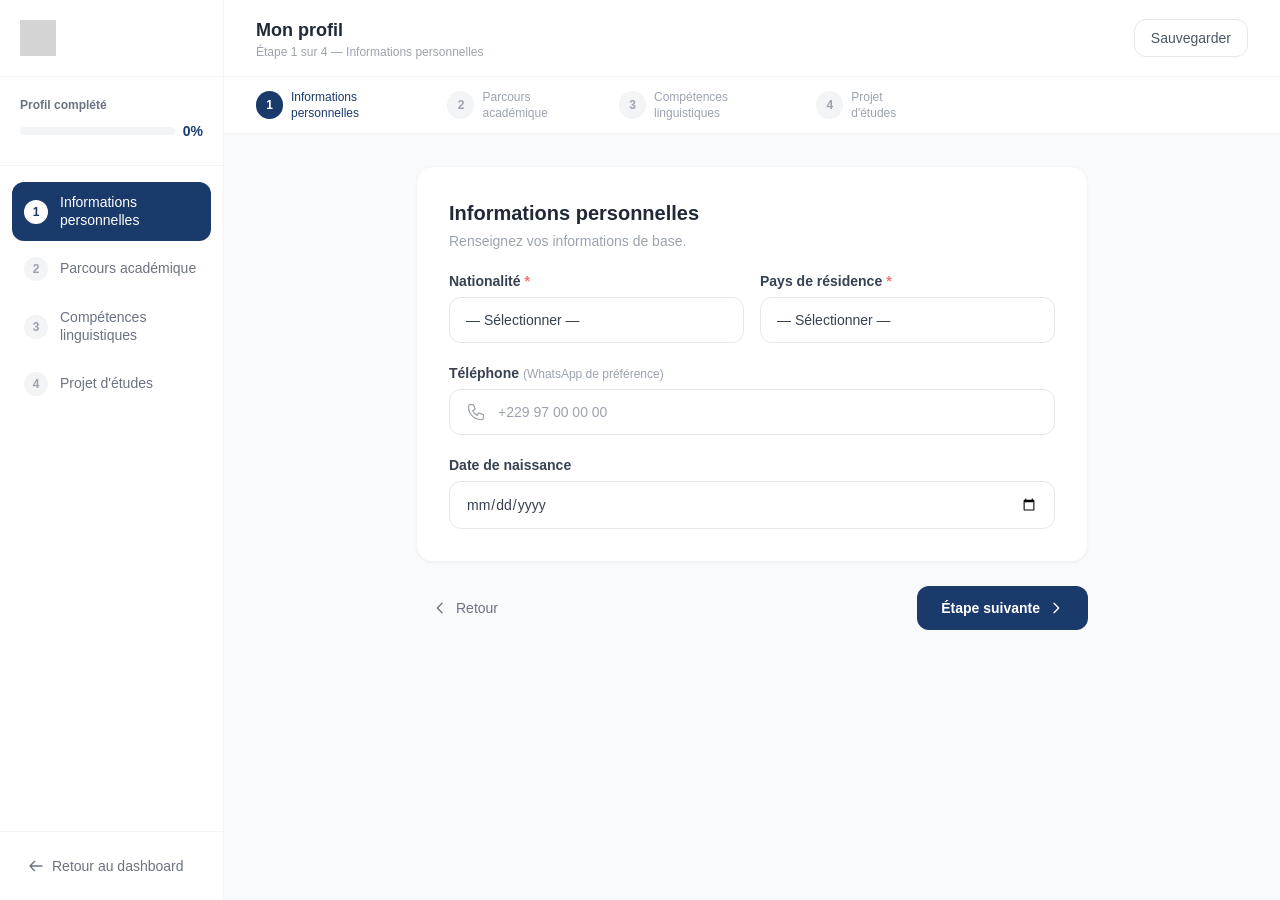
Test: Profile — auto-remplissage de l'indicatif téléphonique › met à jour l'indicatif si seul un code précédent est présent
This screenshot has width=1280, height=900.
Select "Bénin" in the dropdown below "Nationalité": (596, 320) [449,297,744,343]
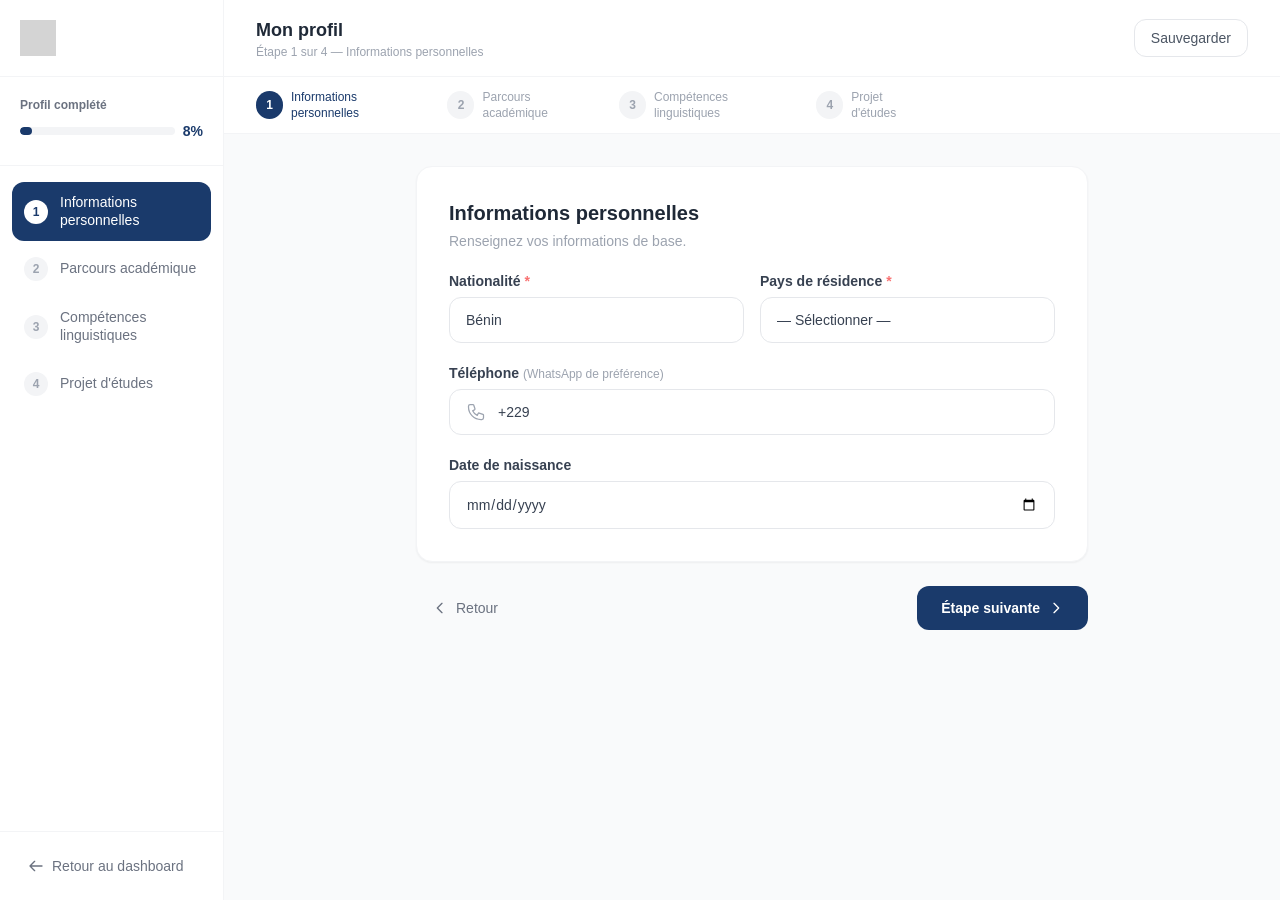
Check: the field with placeholder "+229 97 00 00 00" holds "+229 ", box [498,402,1038,422]
Select "Togo" in the dropdown below "Nationalité": (596, 320) [449,297,744,343]
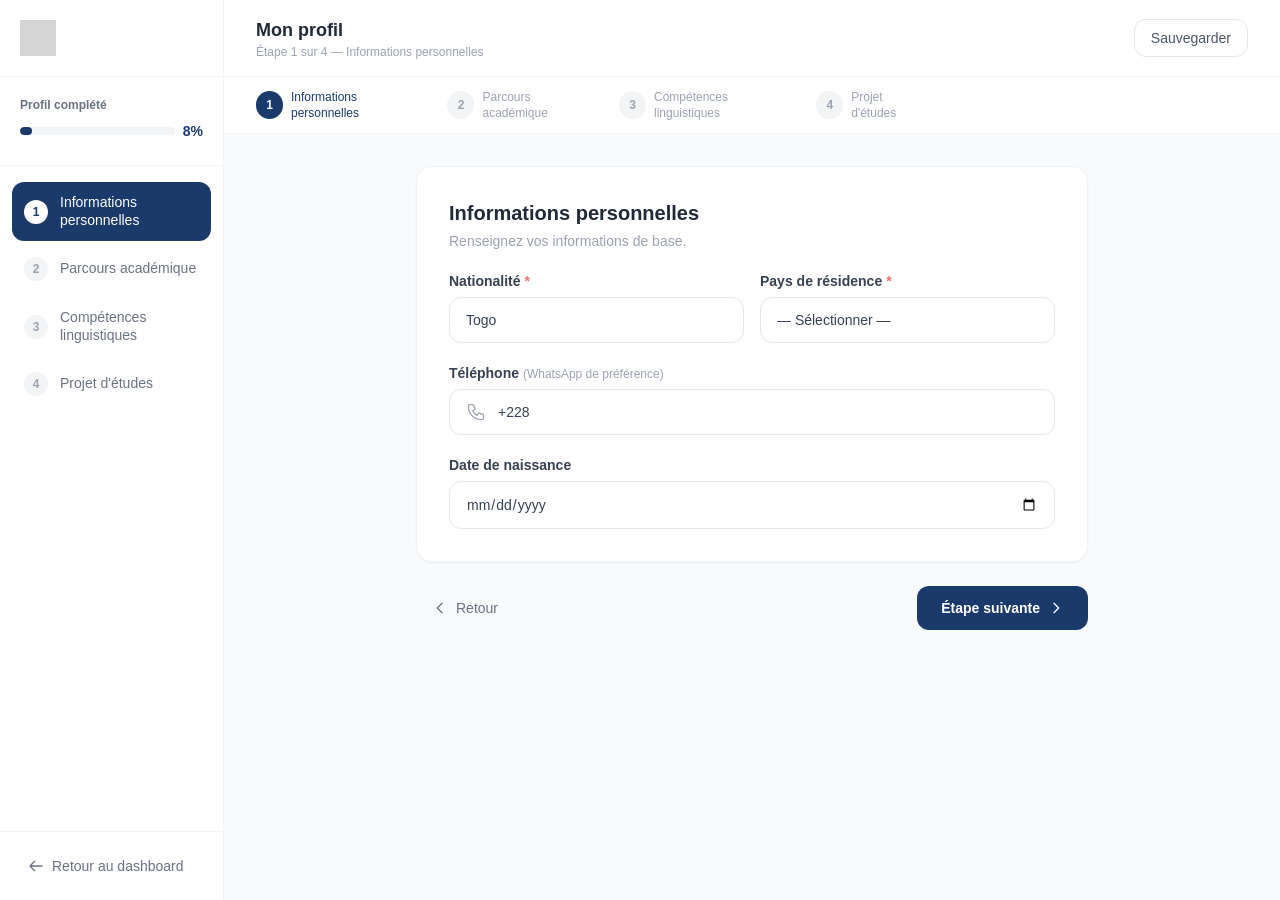
Check: the field with placeholder "+229 97 00 00 00" holds "+228 ", box [498,402,1038,422]
